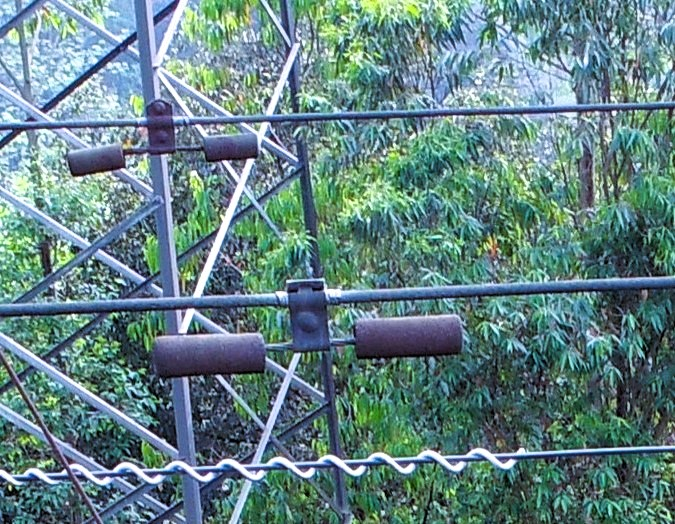Shockproof hammer: (143, 265, 466, 389), (58, 95, 266, 183)
